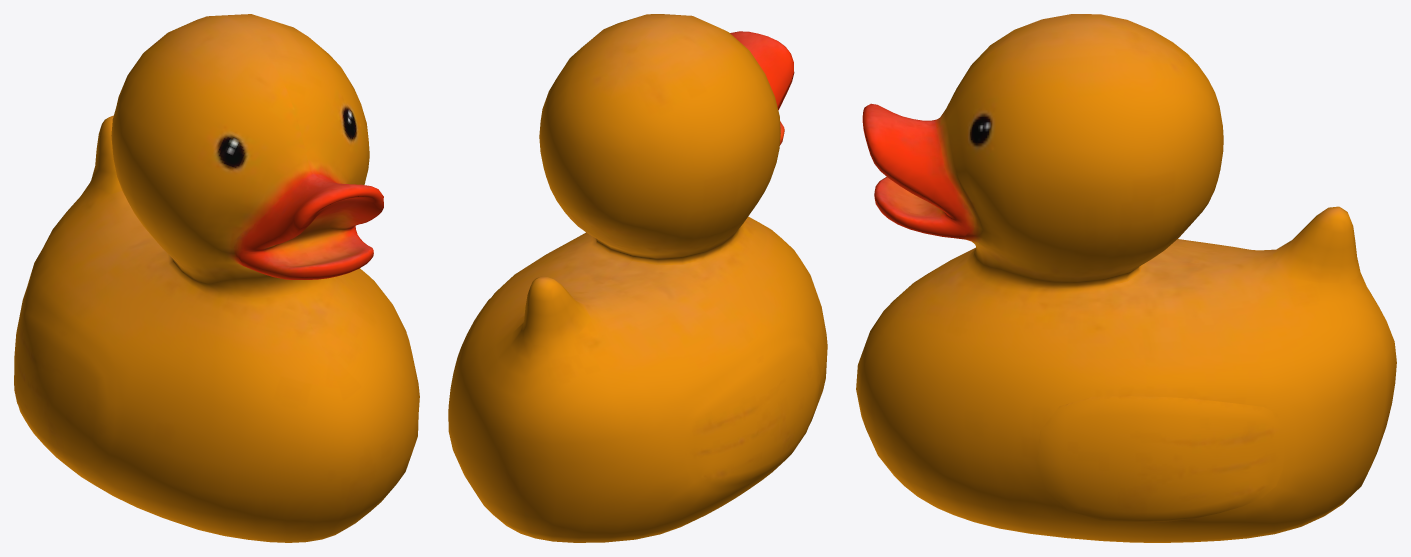
The model's file is rubber_duck_toy.glb.
The picture shows the model from 3 angles, left to right: view 1: azimuth 30°, elevation 25°; view 2: azimuth 150°, elevation 25°; view 3: azimuth 270°, elevation 25°; orthographic projection. The views are drawn at different scales.
Parts seen in each view (by area): view 1: rubber_duck_toy; view 2: rubber_duck_toy; view 3: rubber_duck_toy.
Part boxes in pixels (x1,y1,x2,y2): rubber_duck_toy: [14, 14, 419, 542]; rubber_duck_toy: [448, 14, 827, 542]; rubber_duck_toy: [856, 14, 1396, 542].
Size of the model in its own units: 0.2135 by 0.2855 by 0.3.
1 material, 1 textured.
